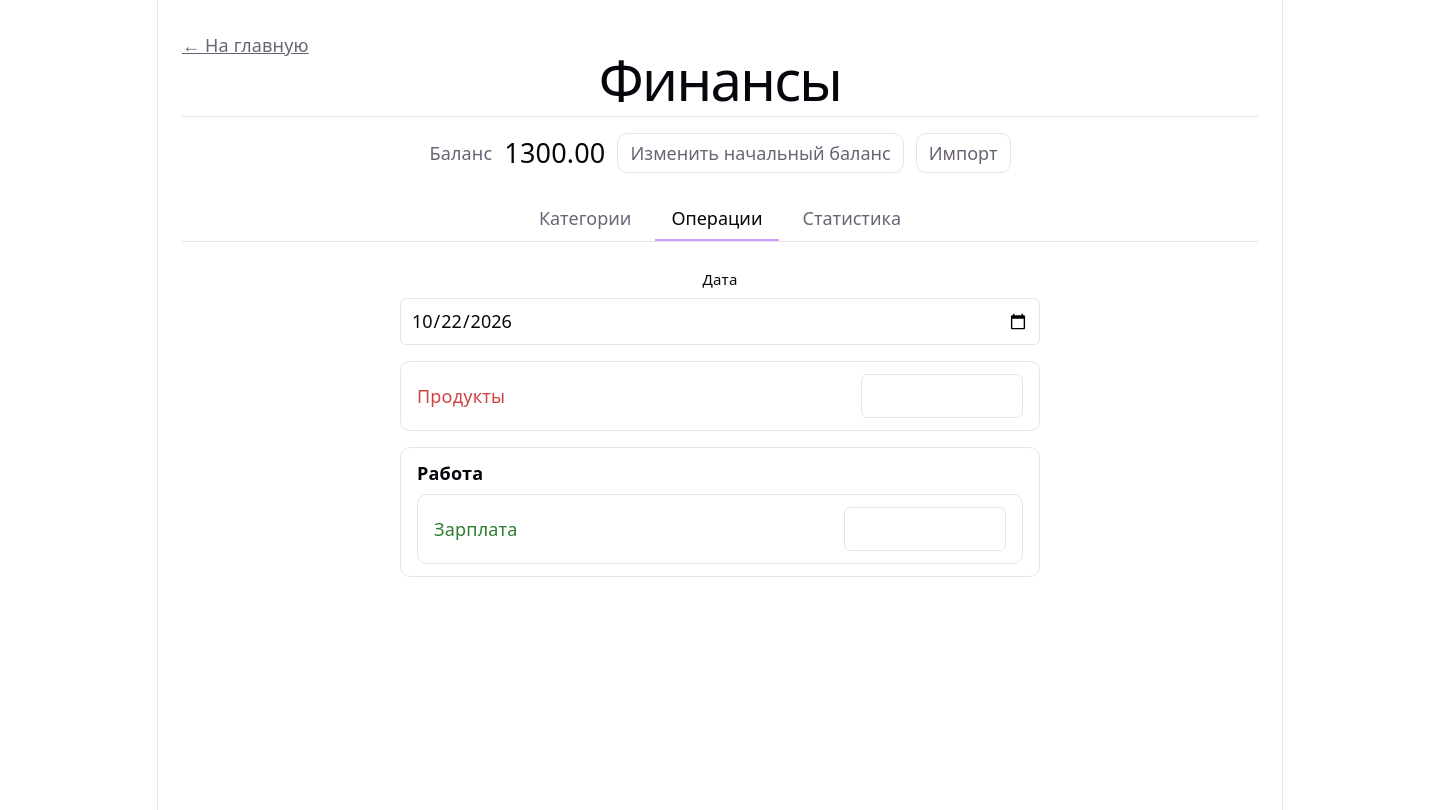
FinancesPage › не отправляет пустой начальный баланс
Expected: the text "1300.00" is shown, [504,140,606,166]
Click the button "Изменить начальный баланс" at (761, 153), box [618,133,904,173]
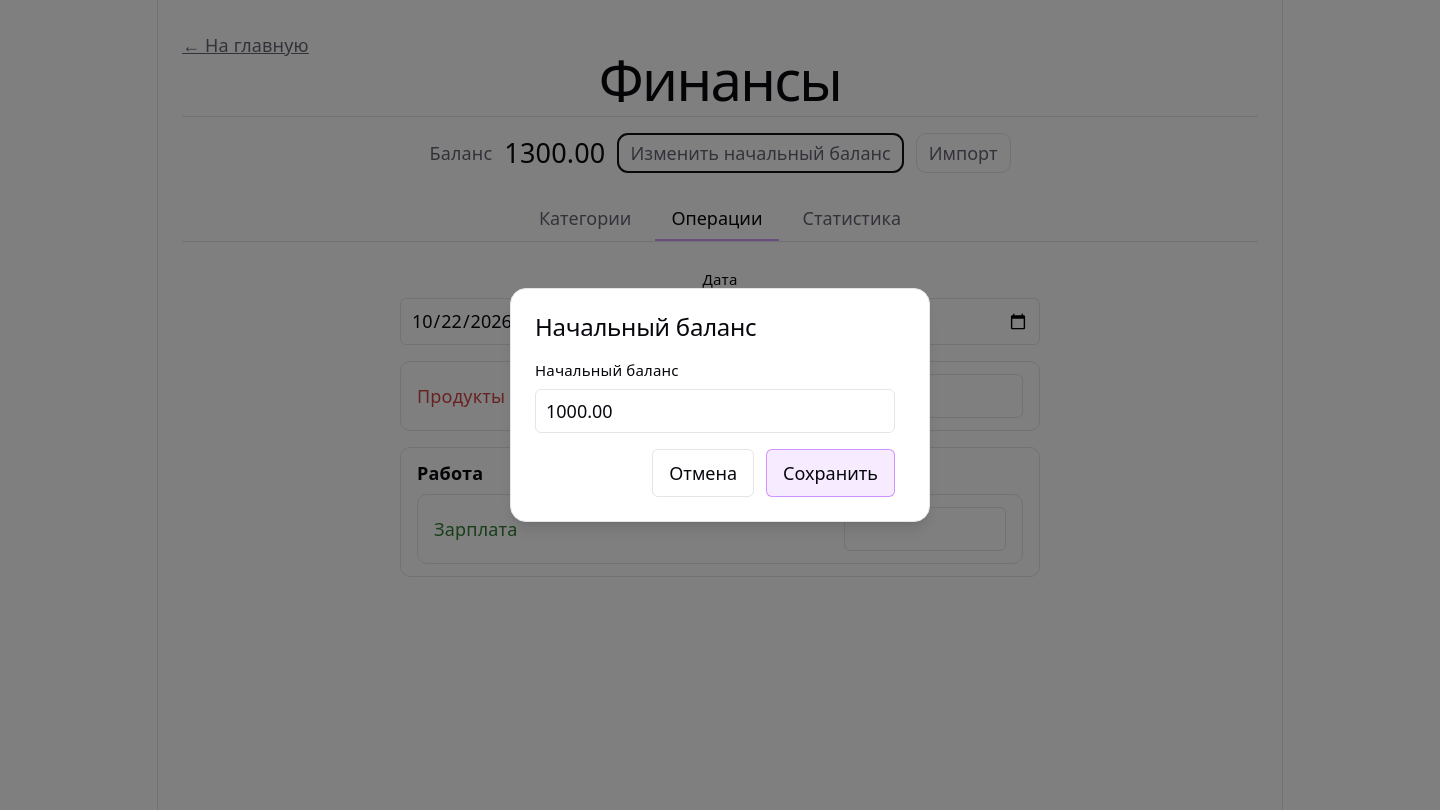
Clear the field labelled "Начальный баланс" at (715, 411), box [535,389,895,433]
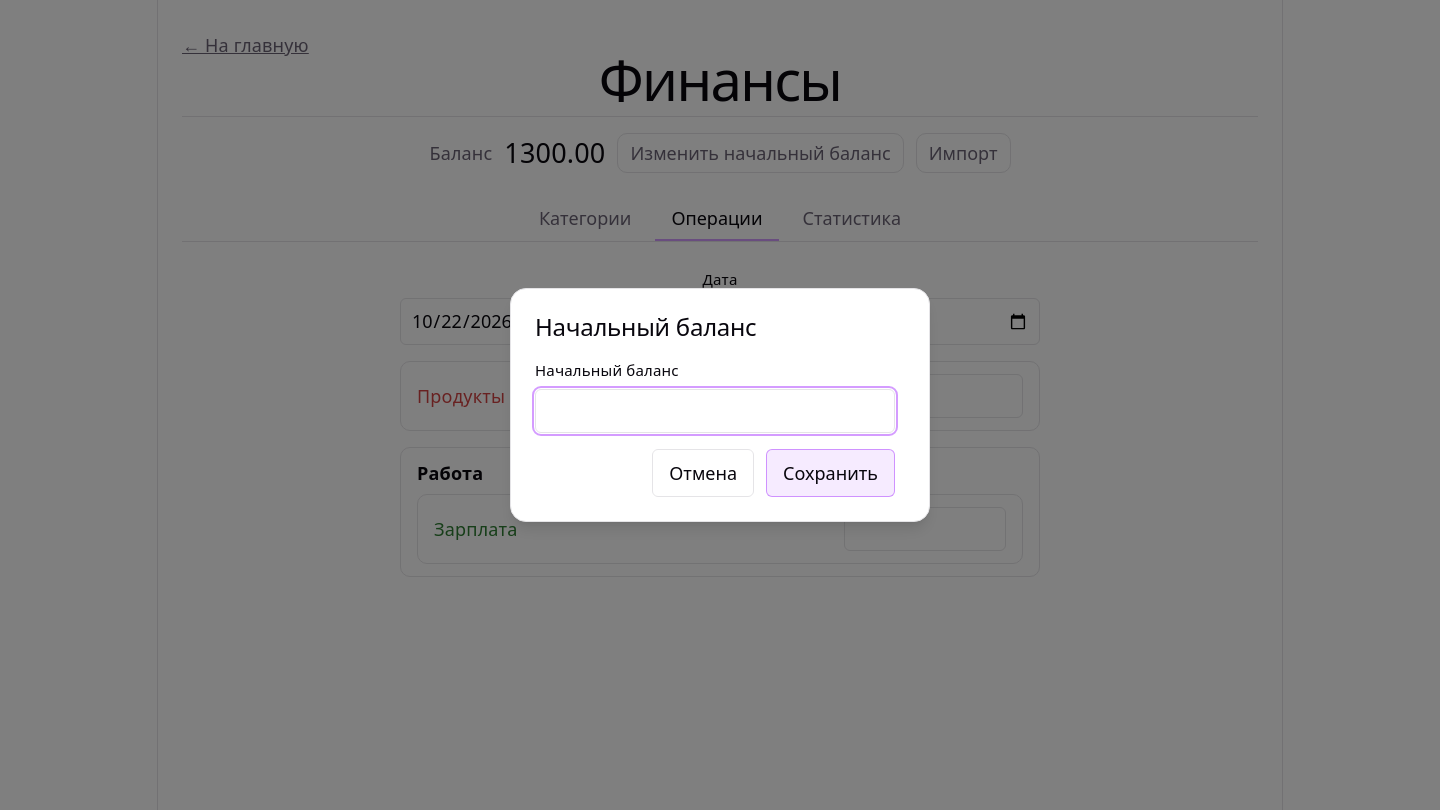
Click the button "Сохранить" at (831, 473), box [766,449,895,497]
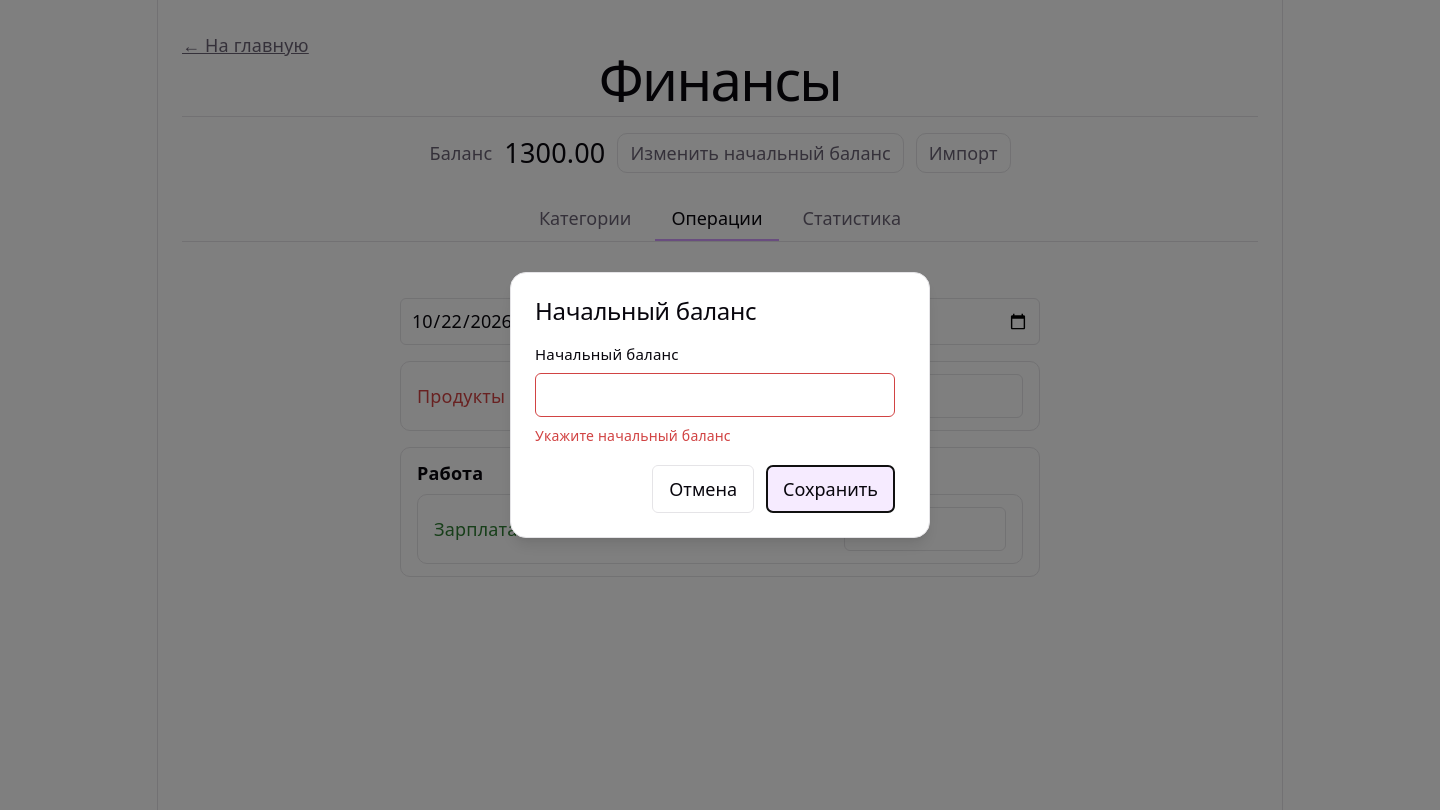
Expected: the text "Укажите начальный баланс" is shown, [535,426,731,445]
